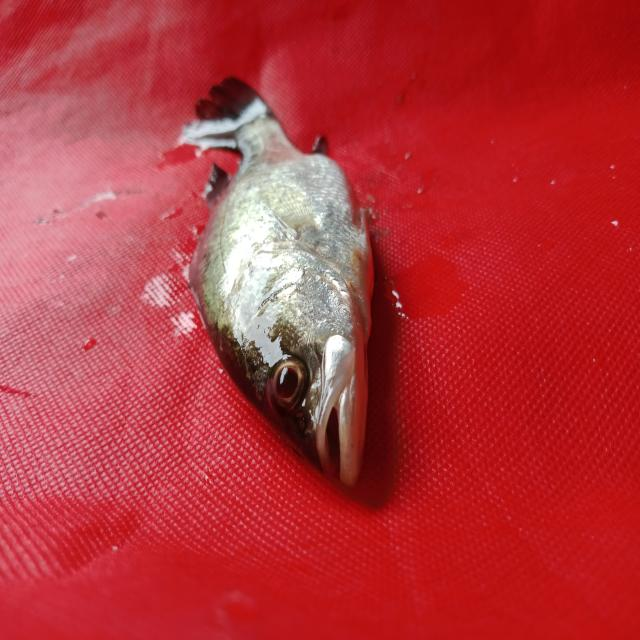ikan: (156, 45, 396, 494)
